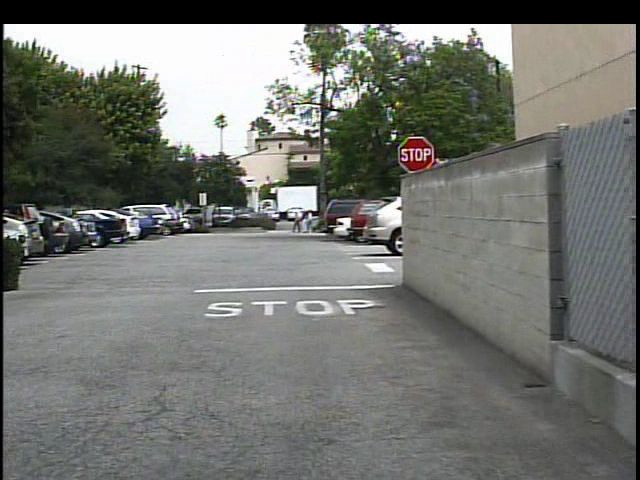person: (285, 210, 299, 237), (298, 209, 312, 235)
